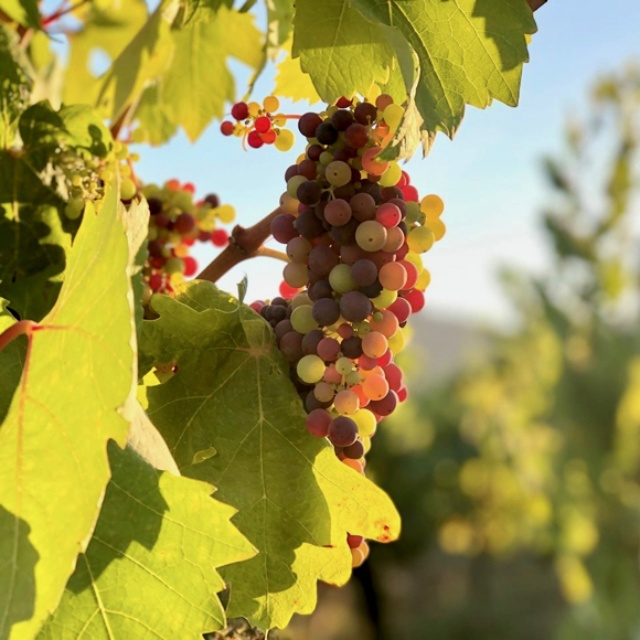grape: (274, 90, 446, 477)
